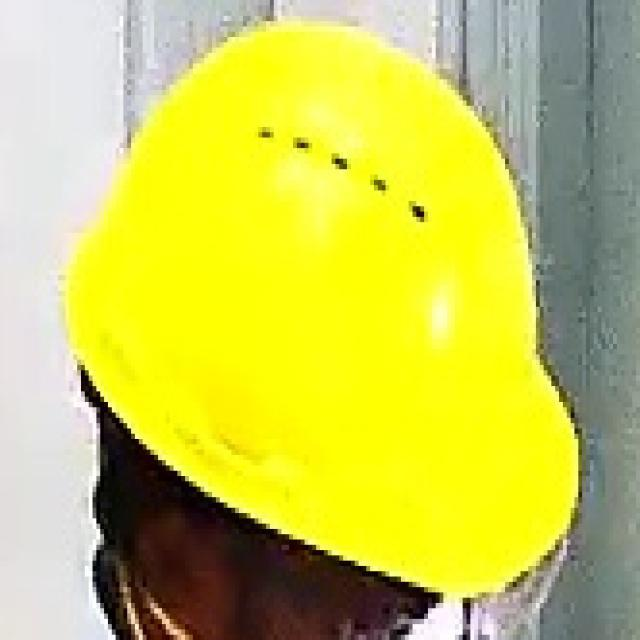yellow helmet: (64, 14, 599, 596)
